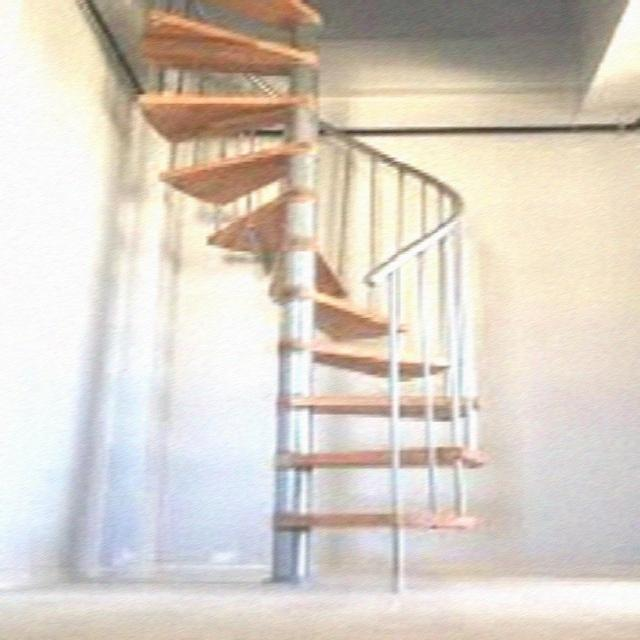stair: (112, 0, 506, 580)
